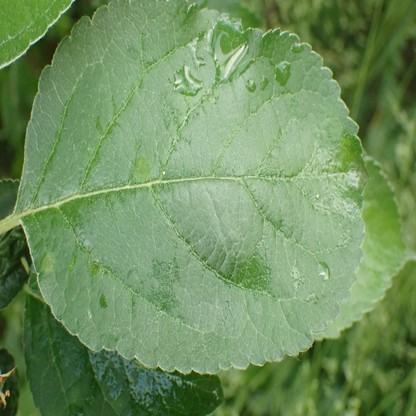scab: (133, 155, 149, 177), (41, 251, 54, 270)
